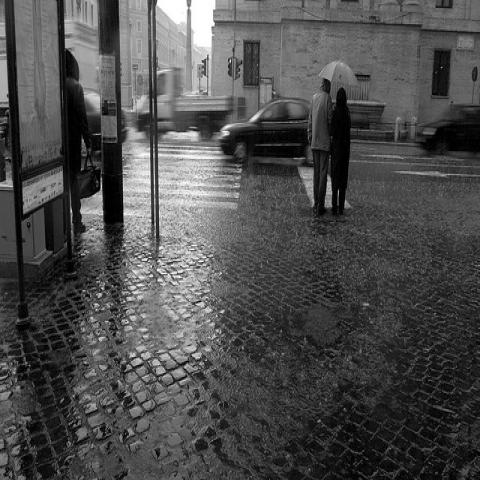car: (217, 95, 314, 168), (416, 101, 478, 161), (84, 90, 128, 146)
truck: (136, 69, 234, 142)
